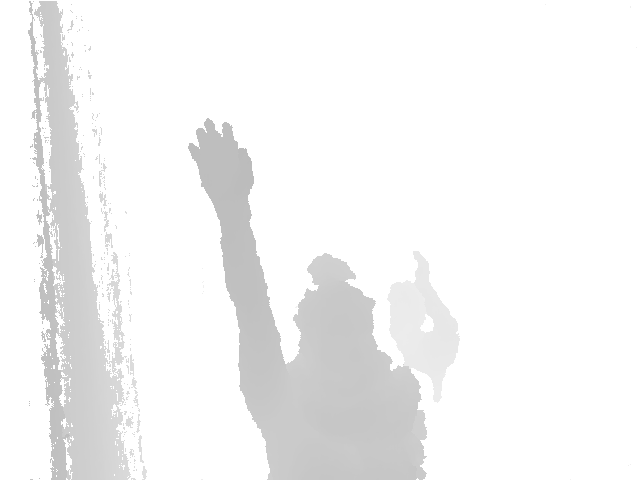hand: (184, 118, 260, 210), (412, 252, 433, 289)
head: (289, 254, 380, 368), (386, 281, 424, 338)
person: (179, 113, 421, 480), (385, 242, 464, 405)
